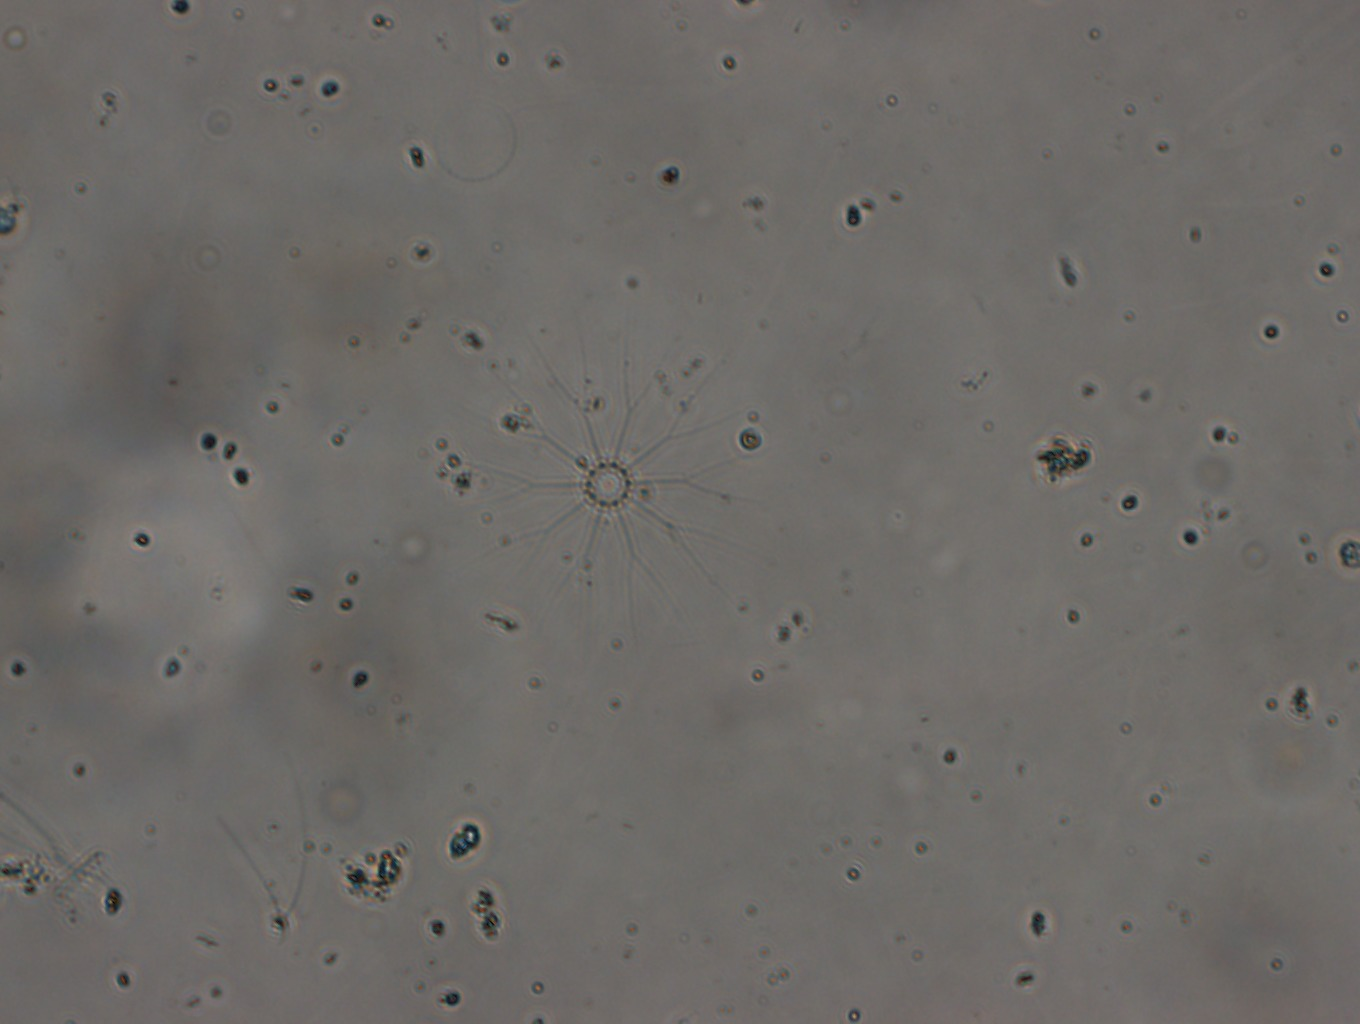bacteriastrum: (449, 328, 767, 640)
